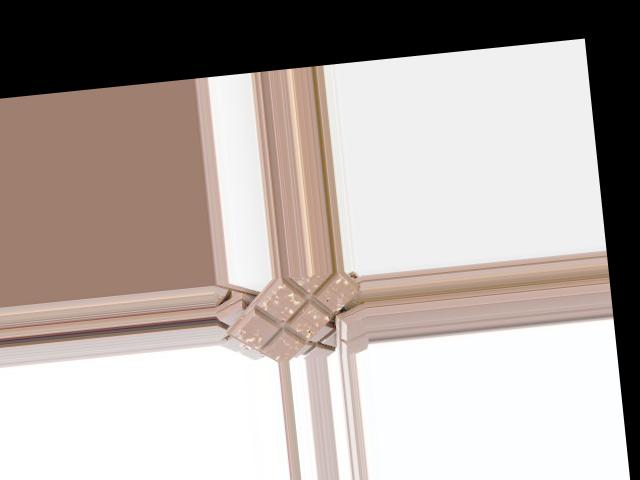chocolate: (230, 269, 364, 365)
